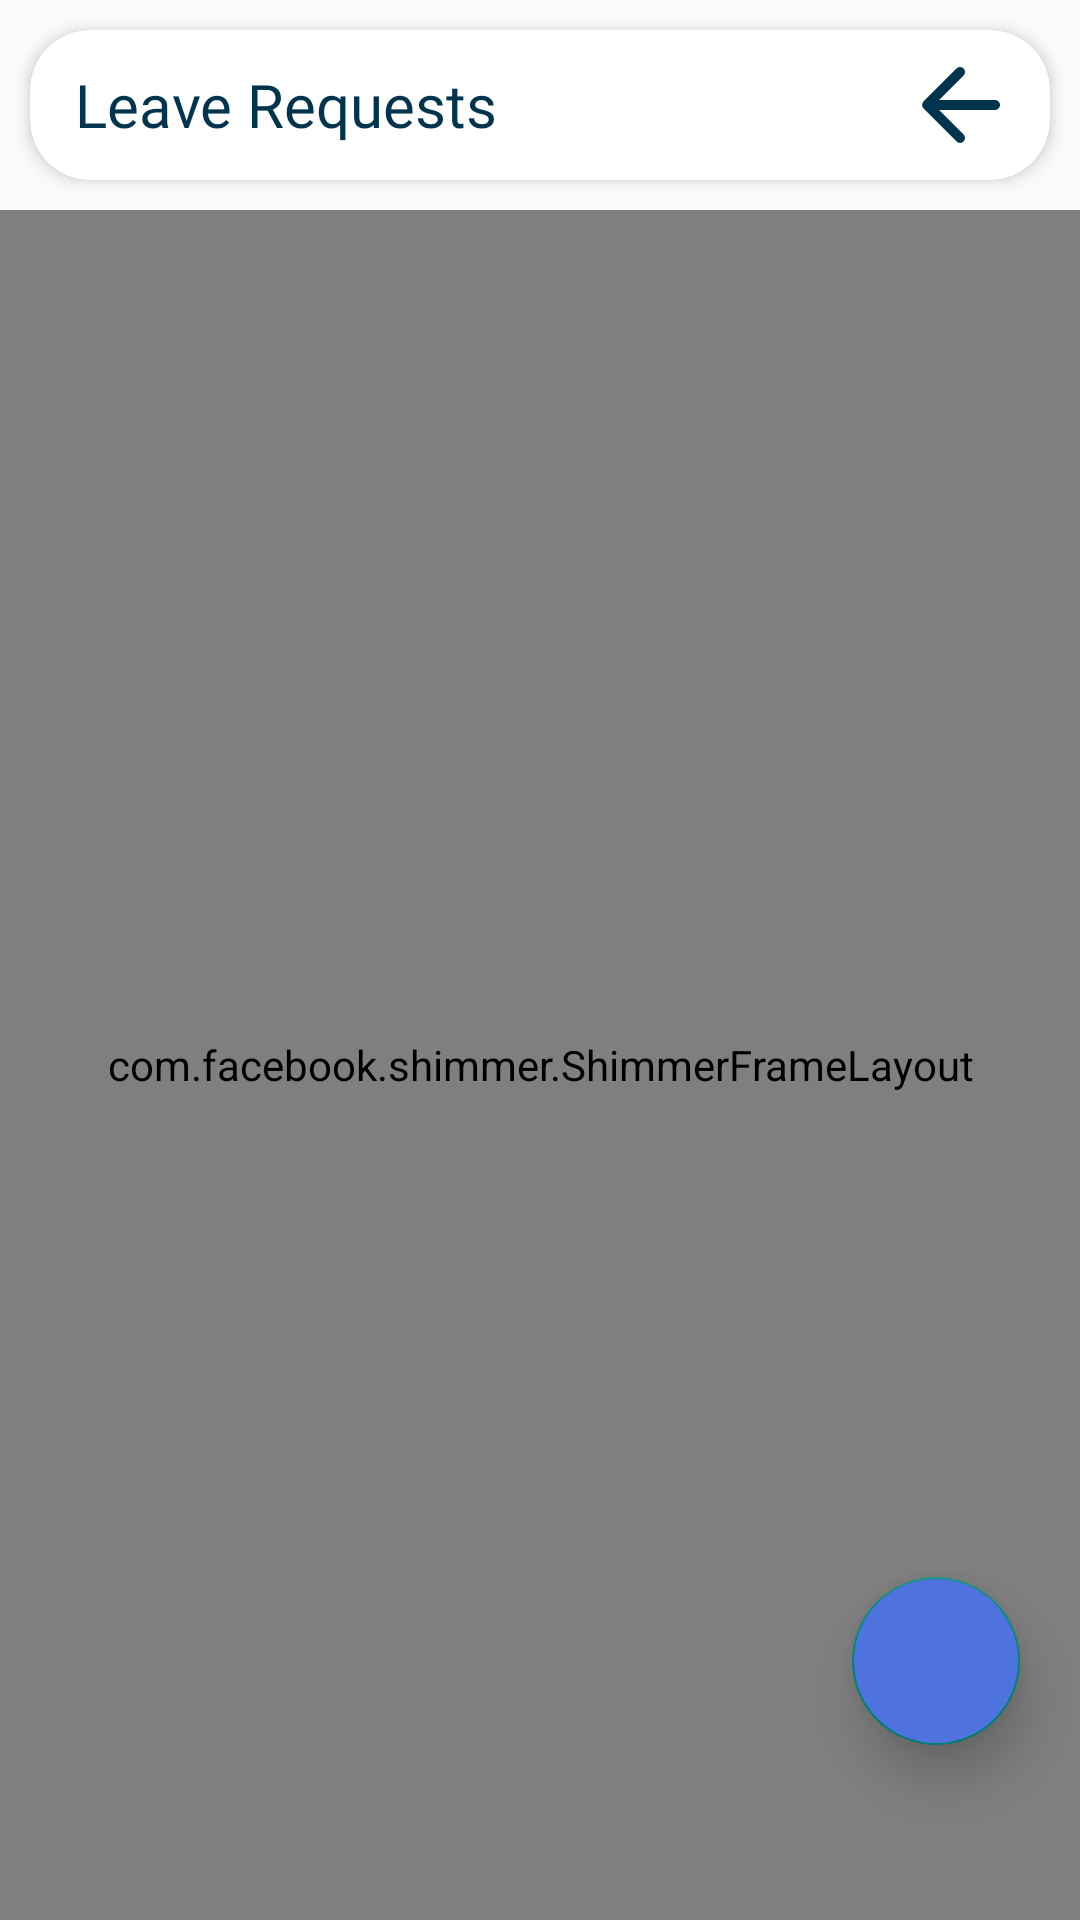

Point at icon controls on the screen. Image size 1080 × 1920, points as (x=x, y=y).
arrow back: (x=961, y=105)
